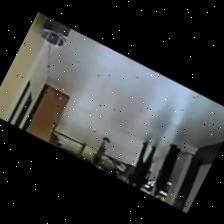person: (154, 143, 179, 195), (128, 141, 155, 188), (91, 136, 109, 165)
